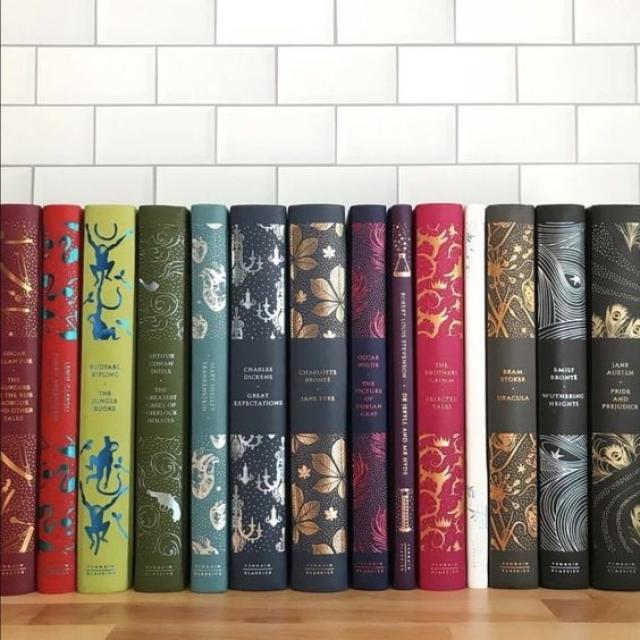book: (288, 204, 347, 592), (77, 206, 135, 593), (229, 205, 286, 592), (588, 203, 640, 592), (135, 206, 186, 593), (487, 206, 538, 588), (538, 206, 588, 588), (418, 205, 464, 590), (37, 204, 79, 593), (349, 204, 390, 592), (0, 203, 39, 594), (191, 205, 227, 594), (391, 204, 416, 591), (464, 203, 488, 588)
